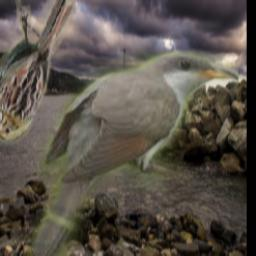Cuckoo: (29, 51, 239, 256)
Sparrow: (0, 0, 76, 143)
